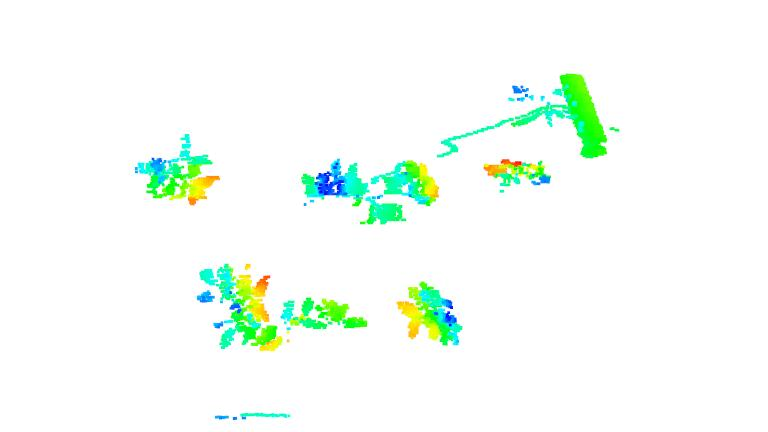chickpea: (235, 289, 375, 347), (122, 129, 220, 209), (362, 159, 442, 238), (401, 279, 464, 354), (194, 267, 273, 325), (302, 155, 372, 207), (486, 152, 569, 194)
